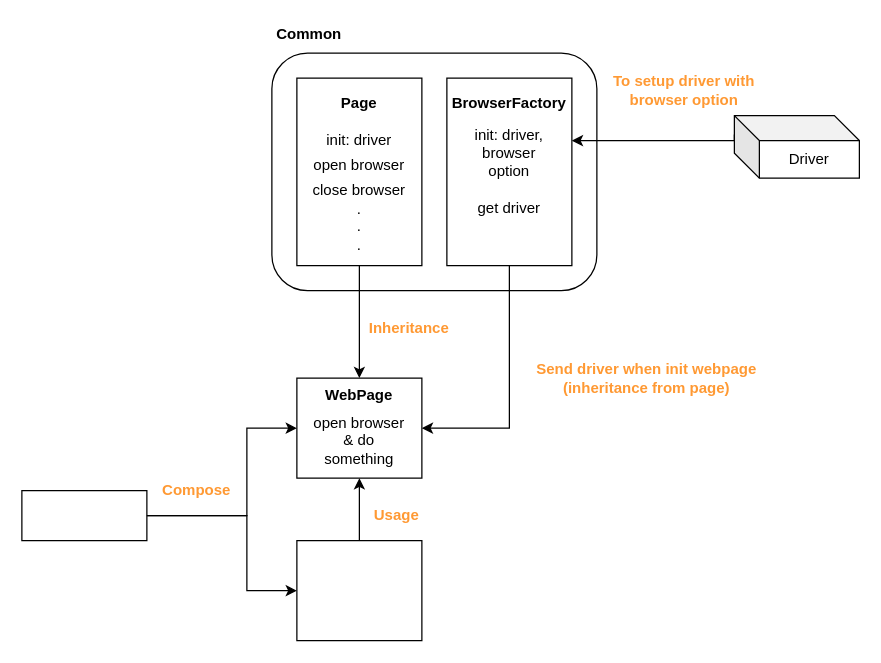
Some shapes in this 881 by 663 pixel diagram are drawn without their labels. The centre of each missing label's shape, as x and y in pixels:
"Elements Store the elements of page" goes at point (359, 590).
"Web" goes at point (84, 515).
